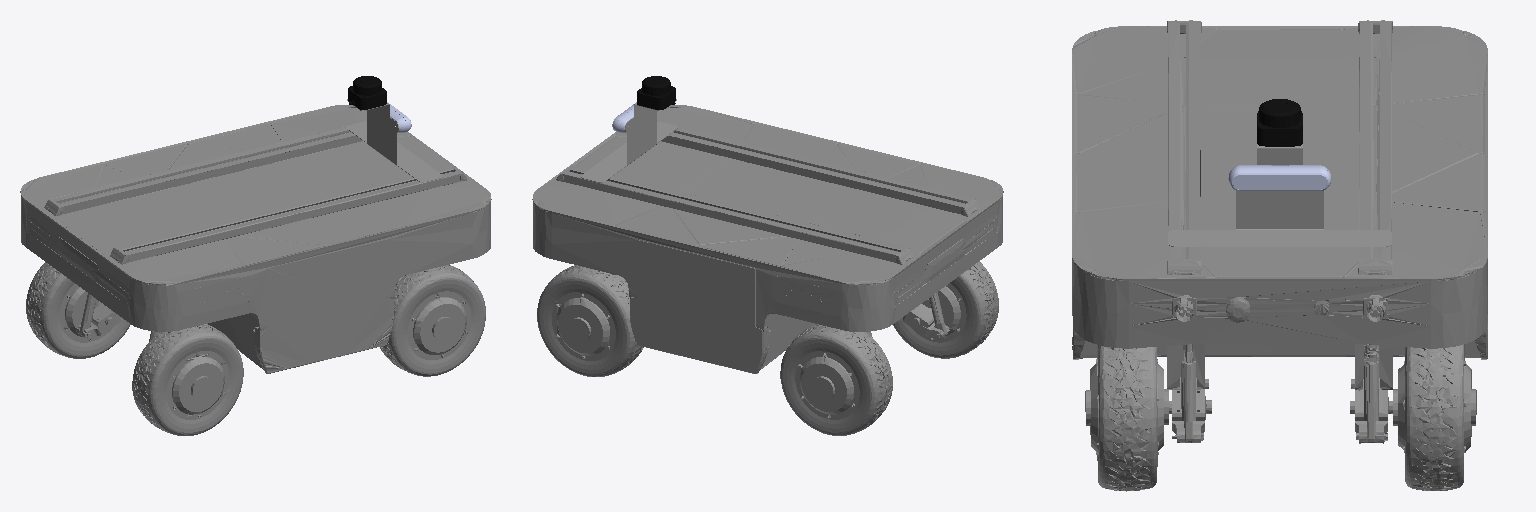
robot.urdf — ranger_mini:
<?xml version="1.0" encoding="utf-8"?>
<!-- AgileX Ranger Mini (v2) with a lidar + camera mount, for RViz and Gazebo
     Harmonic. Geometry, masses and joint names follow
     ranger/ranger_mini/urdf/ranger_mini_gazebo.xacro in
     agilexrobotics/ugv_gazebo_sim (humble). The visual is one whole-robot
     mesh on base_link, so the wheels and steering modules are drawn but do
     not move; the steering and wheel links below are
     invisible and carry the physics. base_link sits over the centre of the four
     wheels, 0.117 m above the ground. -->
<robot name="ranger_mini">
  <link name="base_link">
    <inertial>
      <origin xyz="0 0 0.1" rpy="0 0 0" />
      <mass value="10" />
      <inertia ixx="1" ixy="0.0" ixz="0.0" iyy="1" iyz="0.0" izz="1" />
    </inertial>
    <!-- base_link.STL here is built from two upstream meshes, already in the
         base_link frame: the body with its cover panels (ranger_base.dae,
         109 MB) and the wheels and steering modules (upstream base_link.STL,
         which has no cover panels), merged and simplified to 82k triangles. -->
    <visual>
      <origin xyz="0 0 0" rpy="0 0 0" />
      <geometry>
        <mesh filename="package://ranger_mini_description/meshes/base_link.STL" />
      </geometry>
      <material name="ranger_material">
        <color rgba="0.6 0.6 0.6 1" />
      </material>
    </visual>
    <!-- body above the wheels -->
    <collision>
      <origin xyz="0.01 0 0.134" rpy="0 0 0" />
      <geometry>
        <box size="0.72 0.46 0.18" />
      </geometry>
    </collision>
  </link>

  <!-- Four independently steered and driven wheels (wheelbase 0.49 m,
       track 0.37 m, measured from the mesh's wheel contact patches). -->
  <link name="fl_steering_wheel_link">
    <inertial>
      <origin xyz="0 0 0" rpy="0 0 0" />
      <mass value="1" />
      <inertia ixx="0.01" ixy="0.0" ixz="0.0" iyy="0.01" iyz="0.0" izz="0.01" />
    </inertial>
  </link>
  <joint name="fl_steering_wheel" type="revolute">
    <origin xyz="0.245 0.185 0.02" rpy="0 0 0" />
    <parent link="base_link" />
    <child link="fl_steering_wheel_link" />
    <axis xyz="0 0 1" />
    <limit effort="50" velocity="6.28" lower="-2.1" upper="2.1" />
  </joint>
  <link name="fl_wheel_link">
    <inertial>
      <origin xyz="0 0 0" rpy="0 0 0" />
      <mass value="8" />
      <inertia ixx="0.1171" ixy="0" ixz="0" iyy="0.1361" iyz="0" izz="0.1171" />
    </inertial>
    <collision>
      <origin xyz="0 0 0" rpy="1.5708 0 0" />
      <geometry>
        <cylinder length="0.08" radius="0.08" />
      </geometry>
    </collision>
  </link>
  <joint name="fl_wheel" type="continuous">
    <origin xyz="0 0 -0.057" rpy="0 0 0" />
    <parent link="fl_steering_wheel_link" />
    <child link="fl_wheel_link" />
    <axis xyz="0 1 0" />
    <limit effort="100" velocity="20" />
  </joint>
  <link name="fr_steering_wheel_link">
    <inertial>
      <origin xyz="0 0 0" rpy="0 0 0" />
      <mass value="1" />
      <inertia ixx="0.01" ixy="0.0" ixz="0.0" iyy="0.01" iyz="0.0" izz="0.01" />
    </inertial>
  </link>
  <joint name="fr_steering_wheel" type="revolute">
    <origin xyz="0.245 -0.185 0.02" rpy="0 0 0" />
    <parent link="base_link" />
    <child link="fr_steering_wheel_link" />
    <axis xyz="0 0 1" />
    <limit effort="50" velocity="6.28" lower="-2.1" upper="2.1" />
  </joint>
  <link name="fr_wheel_link">
    <inertial>
      <origin xyz="0 0 0" rpy="0 0 0" />
      <mass value="8" />
      <inertia ixx="0.1171" ixy="0" ixz="0" iyy="0.1361" iyz="0" izz="0.1171" />
    </inertial>
    <collision>
      <origin xyz="0 0 0" rpy="1.5708 0 0" />
      <geometry>
        <cylinder length="0.08" radius="0.08" />
      </geometry>
    </collision>
  </link>
  <joint name="fr_wheel" type="continuous">
    <origin xyz="0 0 -0.057" rpy="0 0 0" />
    <parent link="fr_steering_wheel_link" />
    <child link="fr_wheel_link" />
    <axis xyz="0 1 0" />
    <limit effort="100" velocity="20" />
  </joint>
  <link name="rl_steering_wheel_link">
    <inertial>
      <origin xyz="0 0 0" rpy="0 0 0" />
      <mass value="1" />
      <inertia ixx="0.01" ixy="0.0" ixz="0.0" iyy="0.01" iyz="0.0" izz="0.01" />
    </inertial>
  </link>
  <joint name="rl_steering_wheel" type="revolute">
    <origin xyz="-0.245 0.185 0.02" rpy="0 0 0" />
    <parent link="base_link" />
    <child link="rl_steering_wheel_link" />
    <axis xyz="0 0 1" />
    <limit effort="50" velocity="6.28" lower="-2.1" upper="2.1" />
  </joint>
  <link name="rl_wheel_link">
    <inertial>
      <origin xyz="0 0 0" rpy="0 0 0" />
      <mass value="8" />
      <inertia ixx="0.1171" ixy="0" ixz="0" iyy="0.1361" iyz="0" izz="0.1171" />
    </inertial>
    <collision>
      <origin xyz="0 0 0" rpy="1.5708 0 0" />
      <geometry>
        <cylinder length="0.08" radius="0.08" />
      </geometry>
    </collision>
  </link>
  <joint name="rl_wheel" type="continuous">
    <origin xyz="0 0 -0.057" rpy="0 0 0" />
    <parent link="rl_steering_wheel_link" />
    <child link="rl_wheel_link" />
    <axis xyz="0 1 0" />
    <limit effort="100" velocity="20" />
  </joint>
  <link name="rr_steering_wheel_link">
    <inertial>
      <origin xyz="0 0 0" rpy="0 0 0" />
      <mass value="1" />
      <inertia ixx="0.01" ixy="0.0" ixz="0.0" iyy="0.01" iyz="0.0" izz="0.01" />
    </inertial>
  </link>
  <joint name="rr_steering_wheel" type="revolute">
    <origin xyz="-0.245 -0.185 0.02" rpy="0 0 0" />
    <parent link="base_link" />
    <child link="rr_steering_wheel_link" />
    <axis xyz="0 0 1" />
    <limit effort="50" velocity="6.28" lower="-2.1" upper="2.1" />
  </joint>
  <link name="rr_wheel_link">
    <inertial>
      <origin xyz="0 0 0" rpy="0 0 0" />
      <mass value="8" />
      <inertia ixx="0.1171" ixy="0" ixz="0" iyy="0.1361" iyz="0" izz="0.1171" />
    </inertial>
    <collision>
      <origin xyz="0 0 0" rpy="1.5708 0 0" />
      <geometry>
        <cylinder length="0.08" radius="0.08" />
      </geometry>
    </collision>
  </link>
  <joint name="rr_wheel" type="continuous">
    <origin xyz="0 0 -0.057" rpy="0 0 0" />
    <parent link="rr_steering_wheel_link" />
    <child link="rr_wheel_link" />
    <axis xyz="0 1 0" />
    <limit effort="100" velocity="20" />
  </joint>

  <!-- Lidar + camera mount (Onshape export, onshape-to-robot).
       In the mounting_plate frame the bracket is 0.27 m wide along X, the
       camera faces -Y and Z is up. sensor_mount_joint yaws it by 90 deg so the
       camera faces robot +X, centres it on y=0 and rests the plate on the top
       deck (z=0.224), with its front edge about 4 cm behind the front of the
       deck, as on the Hunter SE. Change the joint x to slide it along the deck. -->
  <joint name="sensor_mount_joint" type="fixed">
    <origin xyz="0.255 0.103849 0.1335" rpy="0 0 1.5708" />
    <parent link="base_link" />
    <child link="mounting_plate" />
  </joint>
  <link name="mounting_plate">
    <inertial>
      <origin xyz="-0.103827 0.0050822 0.16024" rpy="0 0 0" />
      <mass value="0.36749" />
      <inertia ixx="0.00134227" ixy="1.03252e-07" ixz="-1.2342e-08" iyy="0.00184516" iyz="-0.000424489" izz="0.00100517" />
    </inertial>
    <!-- Part rplidar_c1_1__body1 -->
    <visual>
      <origin xyz="-0.103849 0.0303506 0.200463" rpy="1.5708 0 0" />
      <geometry>
        <mesh filename="package://ranger_mini_description/meshes/rplidar_c1_1__body1.stl" />
      </geometry>
      <material name="rplidar_c1_1__body1_material">
        <color rgba="0.1 0.1 0.1 1" />
      </material>
    </visual>
    <collision>
      <origin xyz="-0.103849 0.0303506 0.2211" rpy="0 0 0" />
      <geometry>
        <cylinder radius="0.028" length="0.0413" />
      </geometry>
    </collision>
    <!-- Part realsense_camera -->
    <visual>
      <origin xyz="-0.254685 0.920052 0.165463" rpy="1.5708 0 0" />
      <geometry>
        <mesh filename="package://ranger_mini_description/meshes/realsense_camera.stl" />
      </geometry>
      <material name="realsense_camera_material">
        <color rgba="0.792157 0.819608 0.933333 1" />
      </material>
    </visual>
    <collision>
      <origin xyz="-0.1038 -0.0124 0.1655" rpy="0 0 0" />
      <geometry>
        <box size="0.124 0.0261 0.029" />
      </geometry>
    </collision>
    <!-- Part mounting_plate -->
    <visual>
      <origin xyz="-0.103849 -0.0233904 0.0904633" rpy="0 0 0" />
      <geometry>
        <mesh filename="package://ranger_mini_description/meshes/mounting_plate.stl" />
      </geometry>
      <material name="mounting_plate_material">
        <color rgba="0.627451 0.627451 0.627451 1" />
      </material>
    </visual>
    <collision>
      <origin xyz="-0.1038 0.0049 0.1455" rpy="0 0 0" />
      <geometry>
        <box size="0.27 0.1065 0.11" />
      </geometry>
    </collision>
  </link>

  <!-- Sensor frames (x forward, z up), estimated from the mesh bounding boxes:
       laser sits on the lidar spin axis about 31 mm above its base,
       camera_link at the centre of the camera front face. -->
  <link name="laser" />
  <joint name="laser_joint" type="fixed">
    <origin xyz="-0.103849 0.0303506 0.2315" rpy="0 0 -1.5708" />
    <parent link="mounting_plate" />
    <child link="laser" />
  </joint>
  <link name="camera_link" />
  <joint name="camera_joint" type="fixed">
    <origin xyz="-0.103849 -0.0255 0.1655" rpy="0 0 -1.5708" />
    <parent link="mounting_plate" />
    <child link="camera_link" />
  </joint>
  <!-- ROS optical convention: z forward, x right, y down -->
  <link name="camera_optical_frame" />
  <joint name="camera_optical_joint" type="fixed">
    <origin xyz="0 0 0" rpy="-1.5708 0 -1.5708" />
    <parent link="camera_link" />
    <child link="camera_optical_frame" />
  </joint>

  <gazebo reference="fl_wheel_link">
    <mu1>0.9</mu1>
    <mu2>0.9</mu2>
  </gazebo>
  <gazebo reference="fr_wheel_link">
    <mu1>0.9</mu1>
    <mu2>0.9</mu2>
  </gazebo>
  <gazebo reference="rl_wheel_link">
    <mu1>0.9</mu1>
    <mu2>0.9</mu2>
  </gazebo>
  <gazebo reference="rr_wheel_link">
    <mu1>0.9</mu1>
    <mu2>0.9</mu2>
  </gazebo>

  <!-- Simulated sensors for Gazebo Harmonic (gz sim). They need the
       gz-sim-sensors-system plugin in the world, see worlds/sensor_test.sdf. -->
  <!-- RPLidar C1: 360 deg, 10 Hz, 0.05-12 m, 0.72 deg angular resolution -->
  <gazebo reference="laser">
    <sensor name="rplidar_c1" type="gpu_lidar">
      <topic>scan</topic>
      <gz_frame_id>laser</gz_frame_id>
      <update_rate>10</update_rate>
      <always_on>true</always_on>
      <visualize>true</visualize>
      <lidar>
        <scan>
          <horizontal>
            <samples>500</samples>
            <resolution>1</resolution>
            <min_angle>-3.14159</min_angle>
            <max_angle>3.14159</max_angle>
          </horizontal>
        </scan>
        <range>
          <min>0.05</min>
          <max>12.0</max>
          <resolution>0.01</resolution>
        </range>
        <noise>
          <type>gaussian</type>
          <mean>0.0</mean>
          <stddev>0.01</stddev>
        </noise>
      </lidar>
    </sensor>
  </gazebo>

  <!-- IMU at base_link, 100 Hz. Gives the row-following MPC a slip-free
       heading and a tilt reading. -->
  <gazebo reference="base_link">
    <sensor name="imu" type="imu">
      <topic>imu</topic>
      <gz_frame_id>base_link</gz_frame_id>
      <update_rate>100</update_rate>
      <always_on>true</always_on>
    </sensor>
  </gazebo>

  <!-- RealSense-style RGB-D camera: 640x480 @ 30 Hz, 69 deg horizontal FOV -->
  <gazebo reference="camera_link">
    <sensor name="realsense" type="rgbd_camera">
      <topic>camera</topic>
      <!-- Gazebo stamps every topic of this sensor with this frame. That is
           right for the images and camera_info, but not for the camera/points
           cloud Gazebo also publishes (it is x-forward), so that one is not
           bridged to ROS. -->
      <gz_frame_id>camera_optical_frame</gz_frame_id>
      <update_rate>30</update_rate>
      <always_on>true</always_on>
      <camera>
        <horizontal_fov>1.2043</horizontal_fov>
        <image>
          <width>640</width>
          <height>480</height>
          <format>R8G8B8</format>
        </image>
        <clip>
          <near>0.1</near>
          <far>10.0</far>
        </clip>
      </camera>
    </sensor>
  </gazebo>

  <!-- Drive for Gazebo Harmonic: one position controller per steering joint and
       one velocity controller per wheel. scripts/four_ws_controller.py turns
       cmd_vel into those eight commands. Odometry comes from Gazebo's
       OdometryPublisher, i.e. from the simulated pose, so it does not drift. -->
  <gazebo>
    <plugin filename="gz-sim-joint-position-controller-system" name="gz::sim::systems::JointPositionController">
      <joint_name>fl_steering_wheel</joint_name>
      <topic>steering/fl</topic>
      <use_velocity_commands>true</use_velocity_commands>
      <p_gain>8.0</p_gain>
      <cmd_max>4.0</cmd_max>
      <cmd_min>-4.0</cmd_min>
    </plugin>
    <plugin filename="gz-sim-joint-controller-system" name="gz::sim::systems::JointController">
      <joint_name>fl_wheel</joint_name>
      <topic>wheel/fl</topic>
    </plugin>
    <plugin filename="gz-sim-joint-position-controller-system" name="gz::sim::systems::JointPositionController">
      <joint_name>fr_steering_wheel</joint_name>
      <topic>steering/fr</topic>
      <use_velocity_commands>true</use_velocity_commands>
      <p_gain>8.0</p_gain>
      <cmd_max>4.0</cmd_max>
      <cmd_min>-4.0</cmd_min>
    </plugin>
    <plugin filename="gz-sim-joint-controller-system" name="gz::sim::systems::JointController">
      <joint_name>fr_wheel</joint_name>
      <topic>wheel/fr</topic>
    </plugin>
    <plugin filename="gz-sim-joint-position-controller-system" name="gz::sim::systems::JointPositionController">
      <joint_name>rl_steering_wheel</joint_name>
      <topic>steering/rl</topic>
      <use_velocity_commands>true</use_velocity_commands>
      <p_gain>8.0</p_gain>
      <cmd_max>4.0</cmd_max>
      <cmd_min>-4.0</cmd_min>
    </plugin>
    <plugin filename="gz-sim-joint-controller-system" name="gz::sim::systems::JointController">
      <joint_name>rl_wheel</joint_name>
      <topic>wheel/rl</topic>
    </plugin>
    <plugin filename="gz-sim-joint-position-controller-system" name="gz::sim::systems::JointPositionController">
      <joint_name>rr_steering_wheel</joint_name>
      <topic>steering/rr</topic>
      <use_velocity_commands>true</use_velocity_commands>
      <p_gain>8.0</p_gain>
      <cmd_max>4.0</cmd_max>
      <cmd_min>-4.0</cmd_min>
    </plugin>
    <plugin filename="gz-sim-joint-controller-system" name="gz::sim::systems::JointController">
      <joint_name>rr_wheel</joint_name>
      <topic>wheel/rr</topic>
    </plugin>
    <plugin filename="gz-sim-odometry-publisher-system" name="gz::sim::systems::OdometryPublisher">
      <odom_frame>odom</odom_frame>
      <robot_base_frame>base_link</robot_base_frame>
      <odom_topic>odom</odom_topic>
      <tf_topic>tf</tf_topic>
      <odom_publish_frequency>50</odom_publish_frequency>
      <dimensions>2</dimensions>
    </plugin>
    <plugin filename="gz-sim-imu-system" name="gz::sim::systems::Imu" />
    <plugin filename="gz-sim-joint-state-publisher-system" name="gz::sim::systems::JointStatePublisher">
      <topic>joint_states</topic>
    </plugin>
  </gazebo>
</robot>

--- What the picture shows (computed from the rendered views, not written in the file) ---
3 views of the same robot in one strip: view 1: azimuth 30°, elevation 25°; view 2: azimuth 150°, elevation 25°; view 3: azimuth 270°, elevation 25° (orthographic).
Model ranger_mini with 13 links and 12 joints (4 revolute, 4 continuous, 4 fixed), rooted at base_link, posed every joint at zero.
Links seen in each view (by area): view 1: base_link, mounting_plate; view 2: base_link, mounting_plate; view 3: base_link, mounting_plate.
Link boxes in pixels (left/top/right/bottom): base_link: left=20, top=105, right=491, bottom=435; mounting_plate: left=346, top=76, right=442, bottom=181; base_link: left=532, top=105, right=1003, bottom=435; mounting_plate: left=581, top=76, right=677, bottom=182; base_link: left=1072, top=20, right=1487, bottom=491; mounting_plate: left=1168, top=99, right=1391, bottom=246.
Size in the robot's own frame: 0.738 by 0.5004 by 0.4919 metres.
4 mesh visuals loaded from 4 distinct referenced files (4 binary STL).
